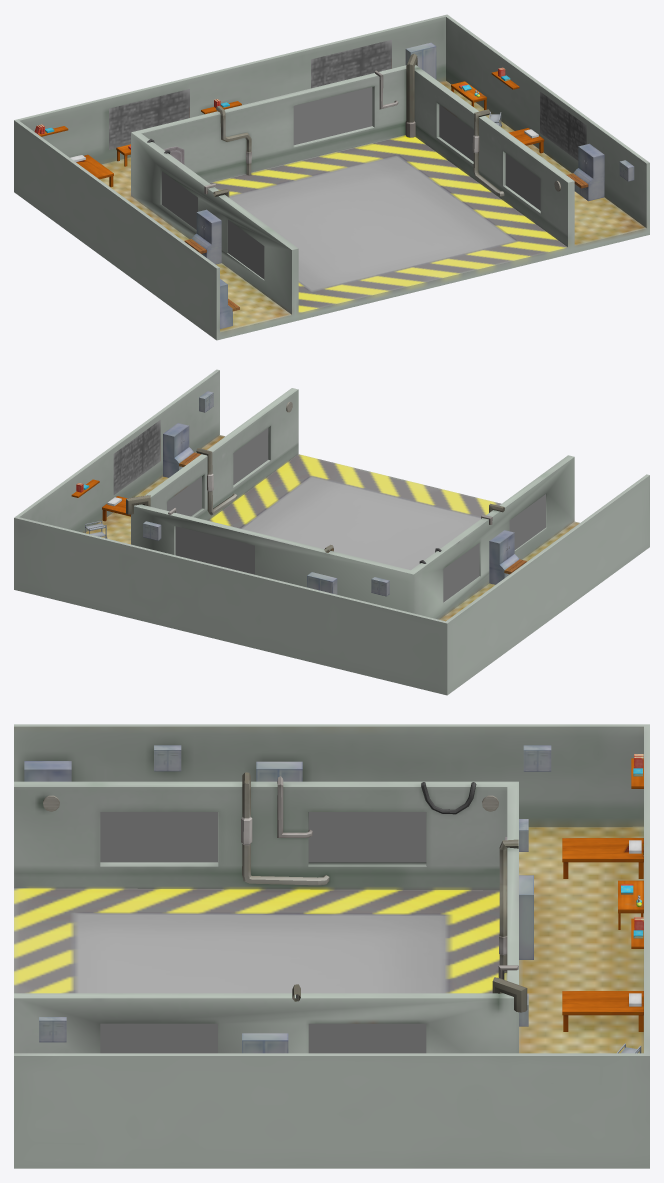
File: Escenario.fbx
3 renders of one model, top to bottom at view 1: azimuth 30°, elevation 25°; view 2: azimuth 150°, elevation 25°; view 3: azimuth 270°, elevation 25°, orthographic. The views are drawn at different scales.
Visible parts, largest first — view 1: cartel_2, ventana001; view 2: cartel_2, ventana001; view 3: cartel_2, ventana001.
Part boxes in pixels (x1,y1,x2,y2): cartel_2: (14, 14, 649, 340); ventana001: (161, 87, 540, 279); cartel_2: (14, 369, 649, 695); ventana001: (167, 428, 545, 602); cartel_2: (14, 724, 649, 1168); ventana001: (100, 812, 426, 1053).
Bounding box in the file's own units: 60.89 × 10.69 × 49.34.
Materials: 2 (1 with a texture image).
